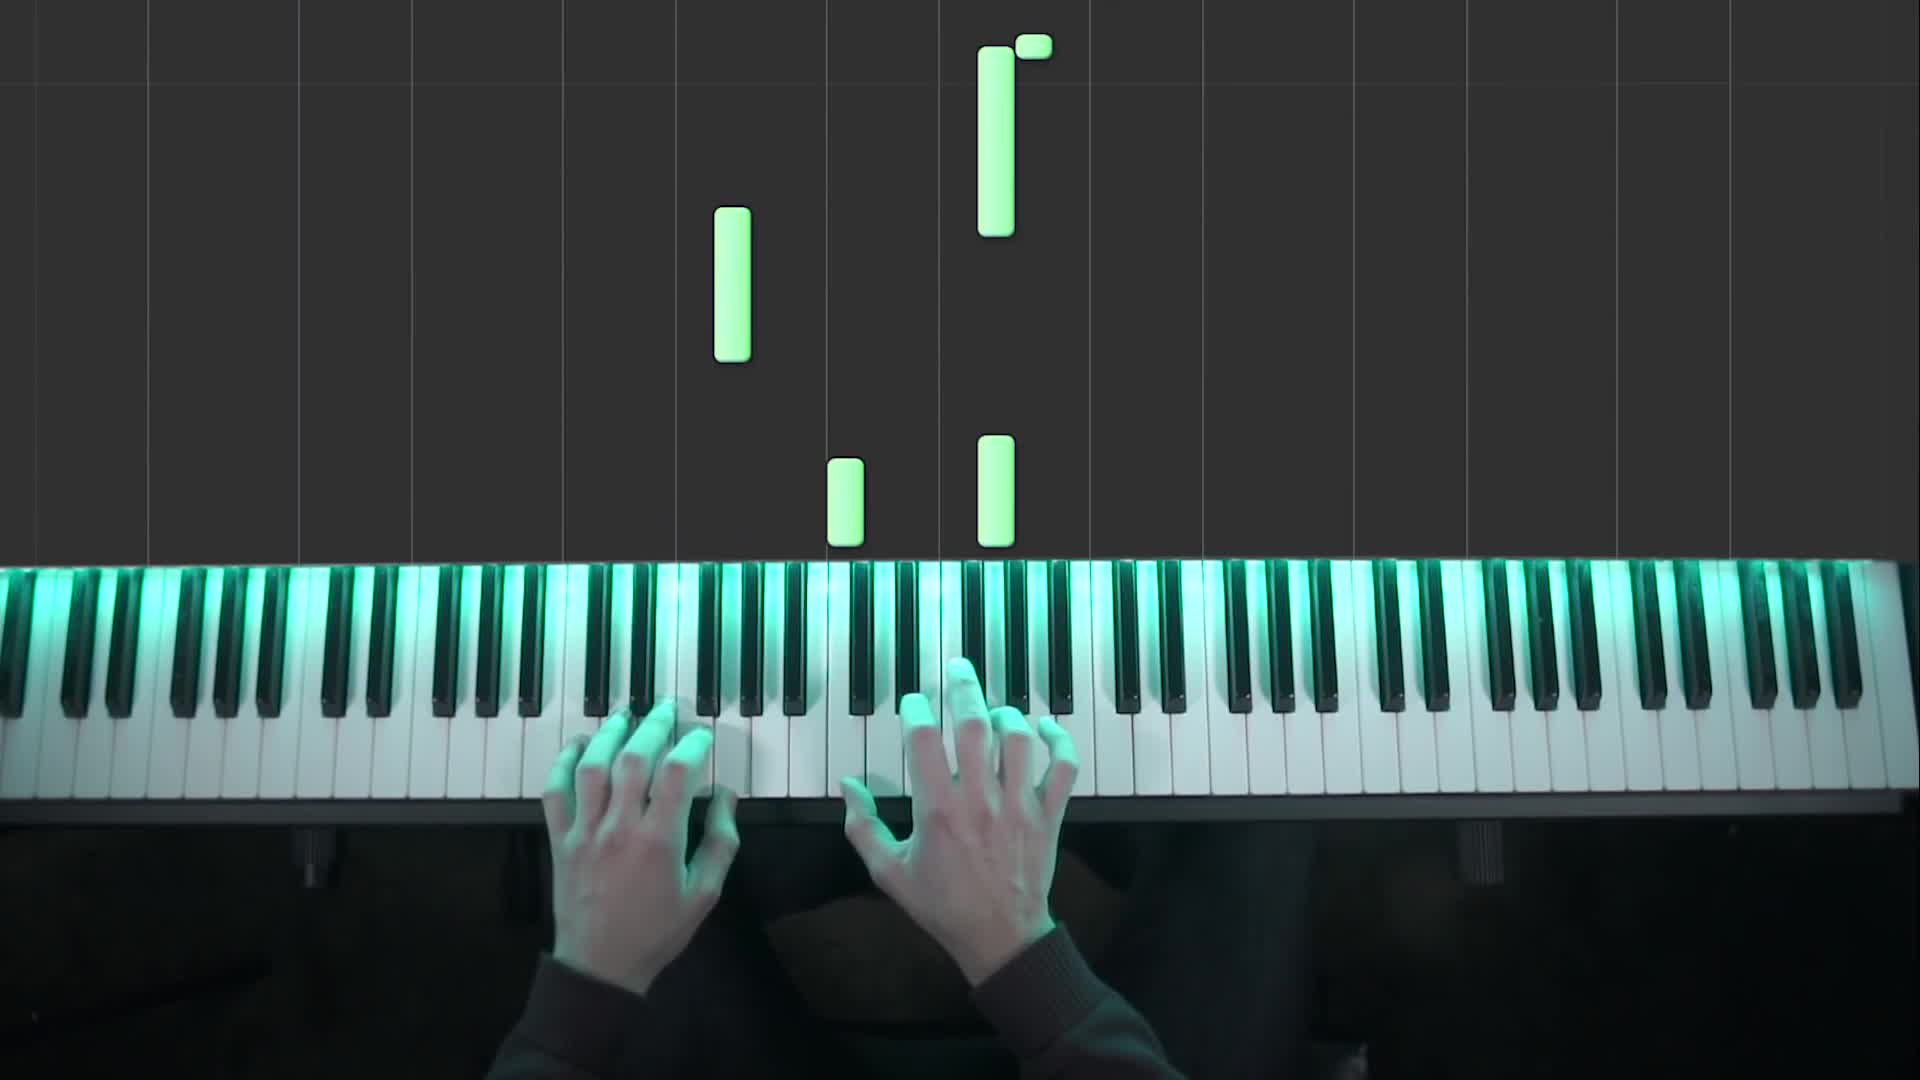left: (538, 695, 742, 955)
right: (841, 655, 1085, 945)
